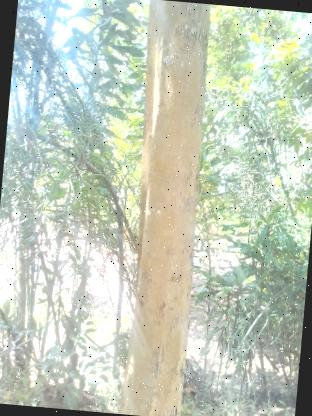tree: (97, 0, 225, 416)
